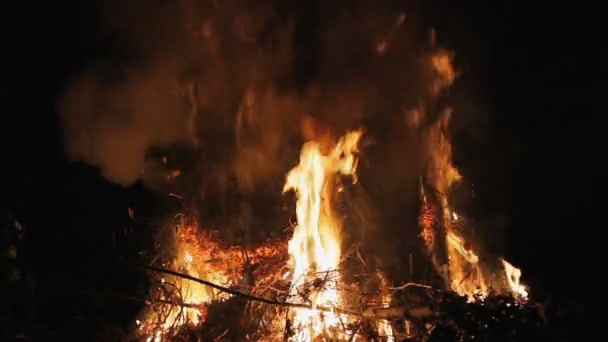fire: (279, 128, 364, 342), (137, 231, 243, 342), (444, 225, 486, 304), (502, 263, 527, 303), (376, 320, 394, 341)
